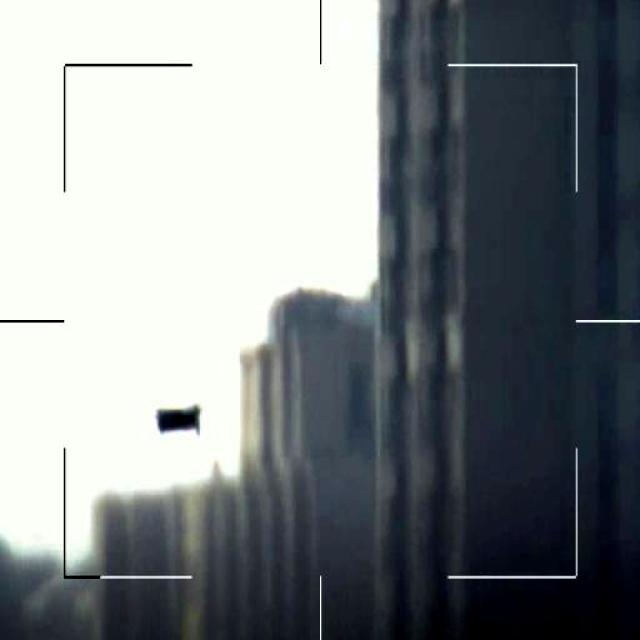bird: (152, 405, 206, 439)
